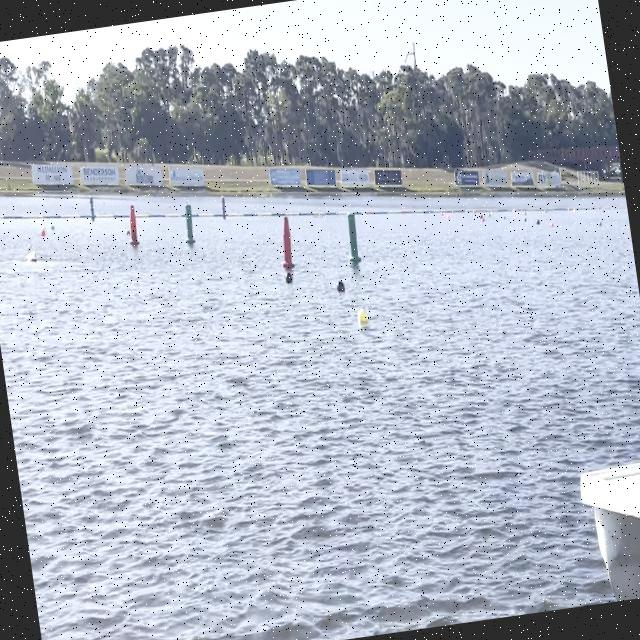buoy: (354, 305, 374, 331), (334, 275, 350, 296), (280, 268, 294, 288), (596, 218, 606, 232), (550, 220, 558, 230)
